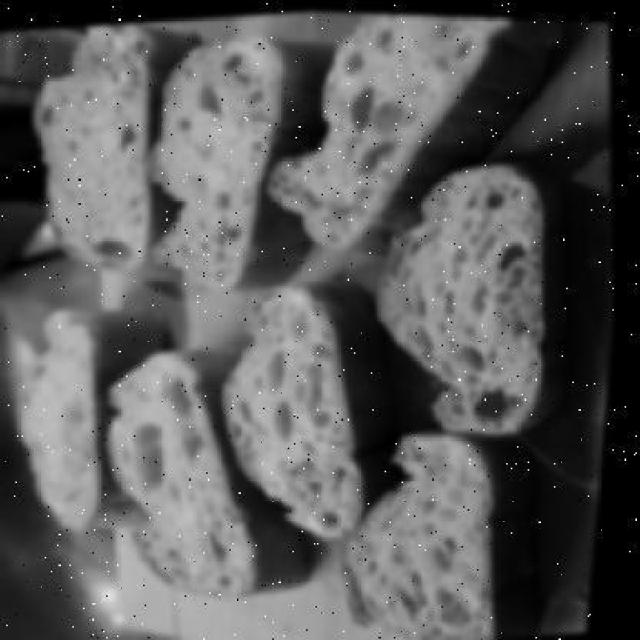Wet: (19, 25, 634, 594)
